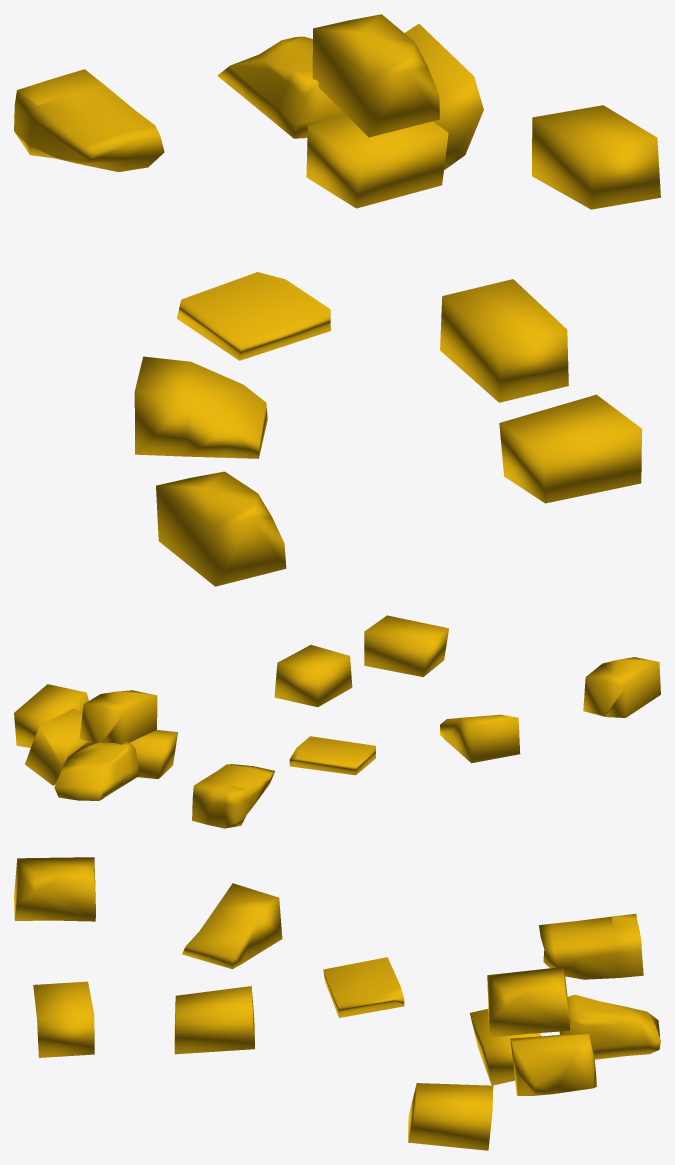
File: Block_Pile_02_Lod2.fbx
3 renders of one model, top to bottom at view 1: azimuth 30°, elevation 25°; view 2: azimuth 150°, elevation 25°; view 3: azimuth 270°, elevation 25°, orthographic. The views are drawn at different scales.
Visible parts, largest first — view 1: Block_Pile_02_Lod2; view 2: Block_Pile_02_Lod2; view 3: Block_Pile_02_Lod2.
Boxes of the visible parts, left/top/right/bottom form: Block_Pile_02_Lod2: left=14, top=14, right=660, bottom=586; Block_Pile_02_Lod2: left=14, top=615, right=660, bottom=828; Block_Pile_02_Lod2: left=14, top=857, right=660, bottom=1150.
Bounding box in the file's own units: 1745 × 362 × 1936.
